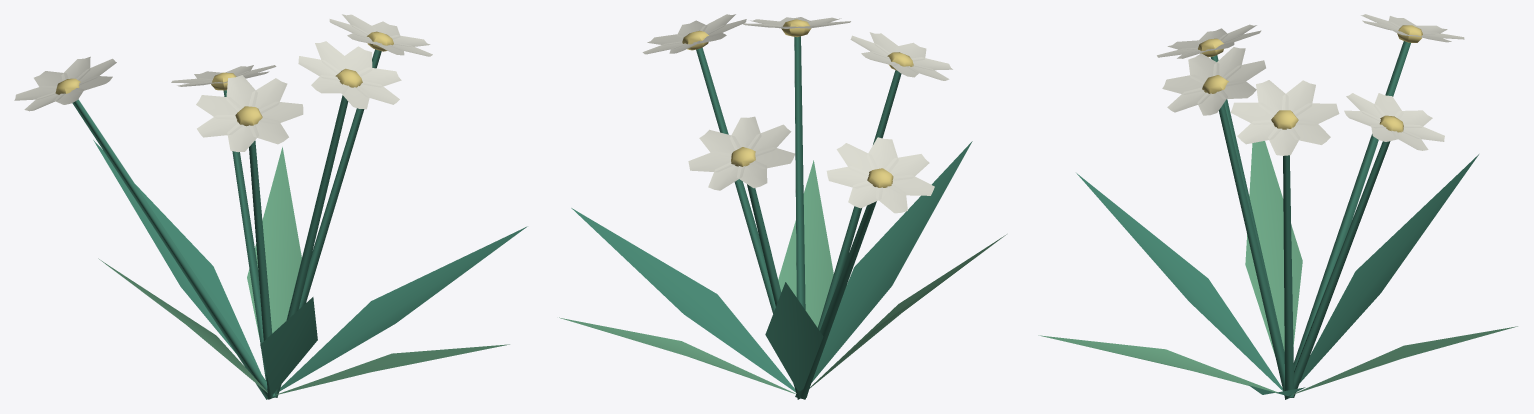
Rendered from daisy.glb.
3 renders of one model, left to right at view 1: azimuth 30°, elevation 25°; view 2: azimuth 150°, elevation 25°; view 3: azimuth 270°, elevation 25°, orthographic.
Visible parts, largest first — view 1: daisy; view 2: daisy; view 3: daisy.
Part boxes in pixels (x1,y1,x2,y2): daisy: [14, 14, 527, 399]; daisy: [559, 14, 1006, 399]; daisy: [1038, 14, 1517, 399].
Size of what is drawn, in the model's own units: 0.3196 by 0.25 by 0.3088.
